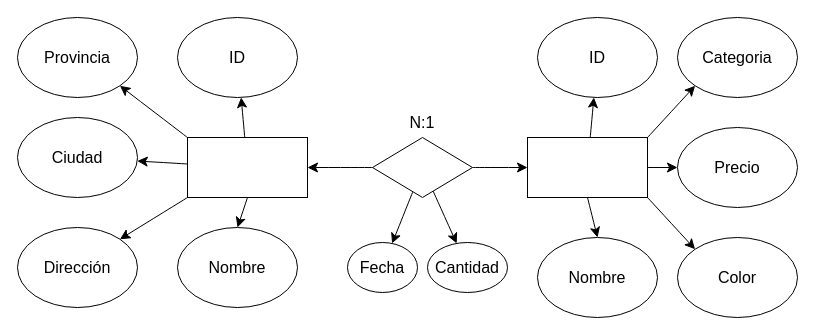
Some shapes in this 815 by 335 pixel diagram are drawn without their labels. Each missing label, with the centre of its shape:
Piezas: the point at 587,167
Proveedores: the point at 247,167
Suministro: the point at 422,167
